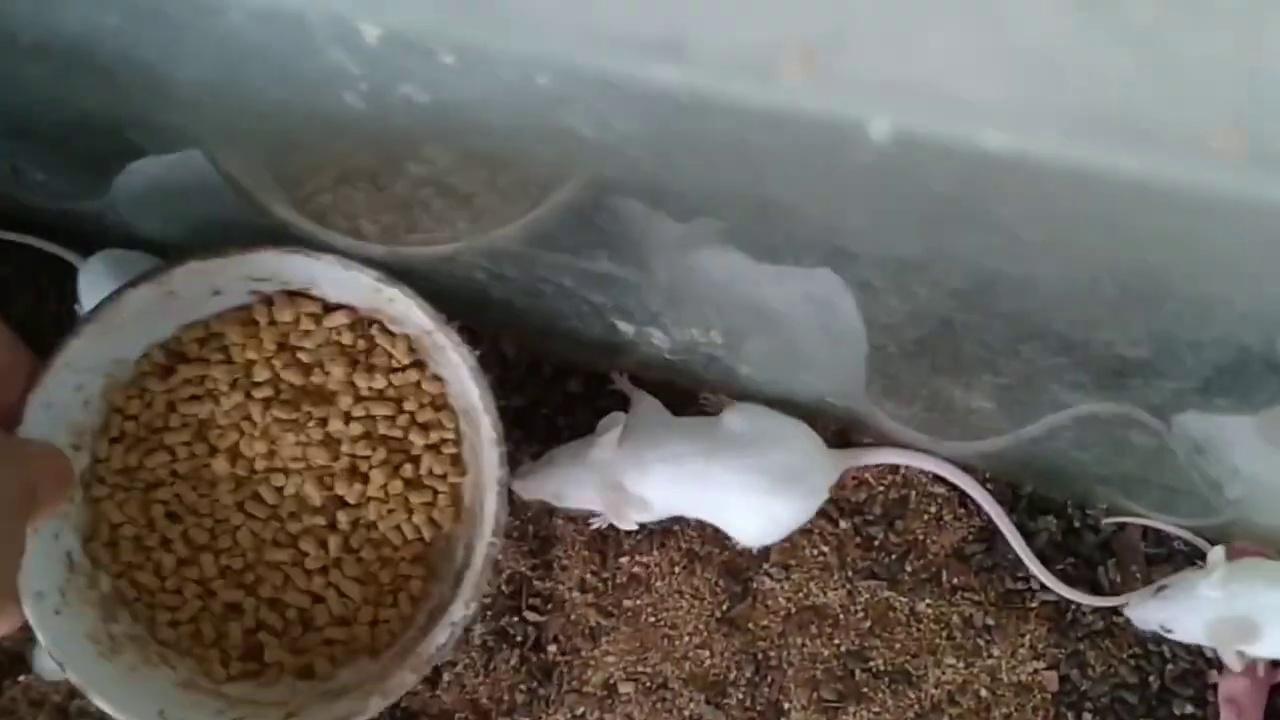rat: (488, 356, 859, 574), (581, 180, 893, 412), (1062, 463, 1280, 690), (69, 120, 328, 239), (41, 197, 185, 318)
